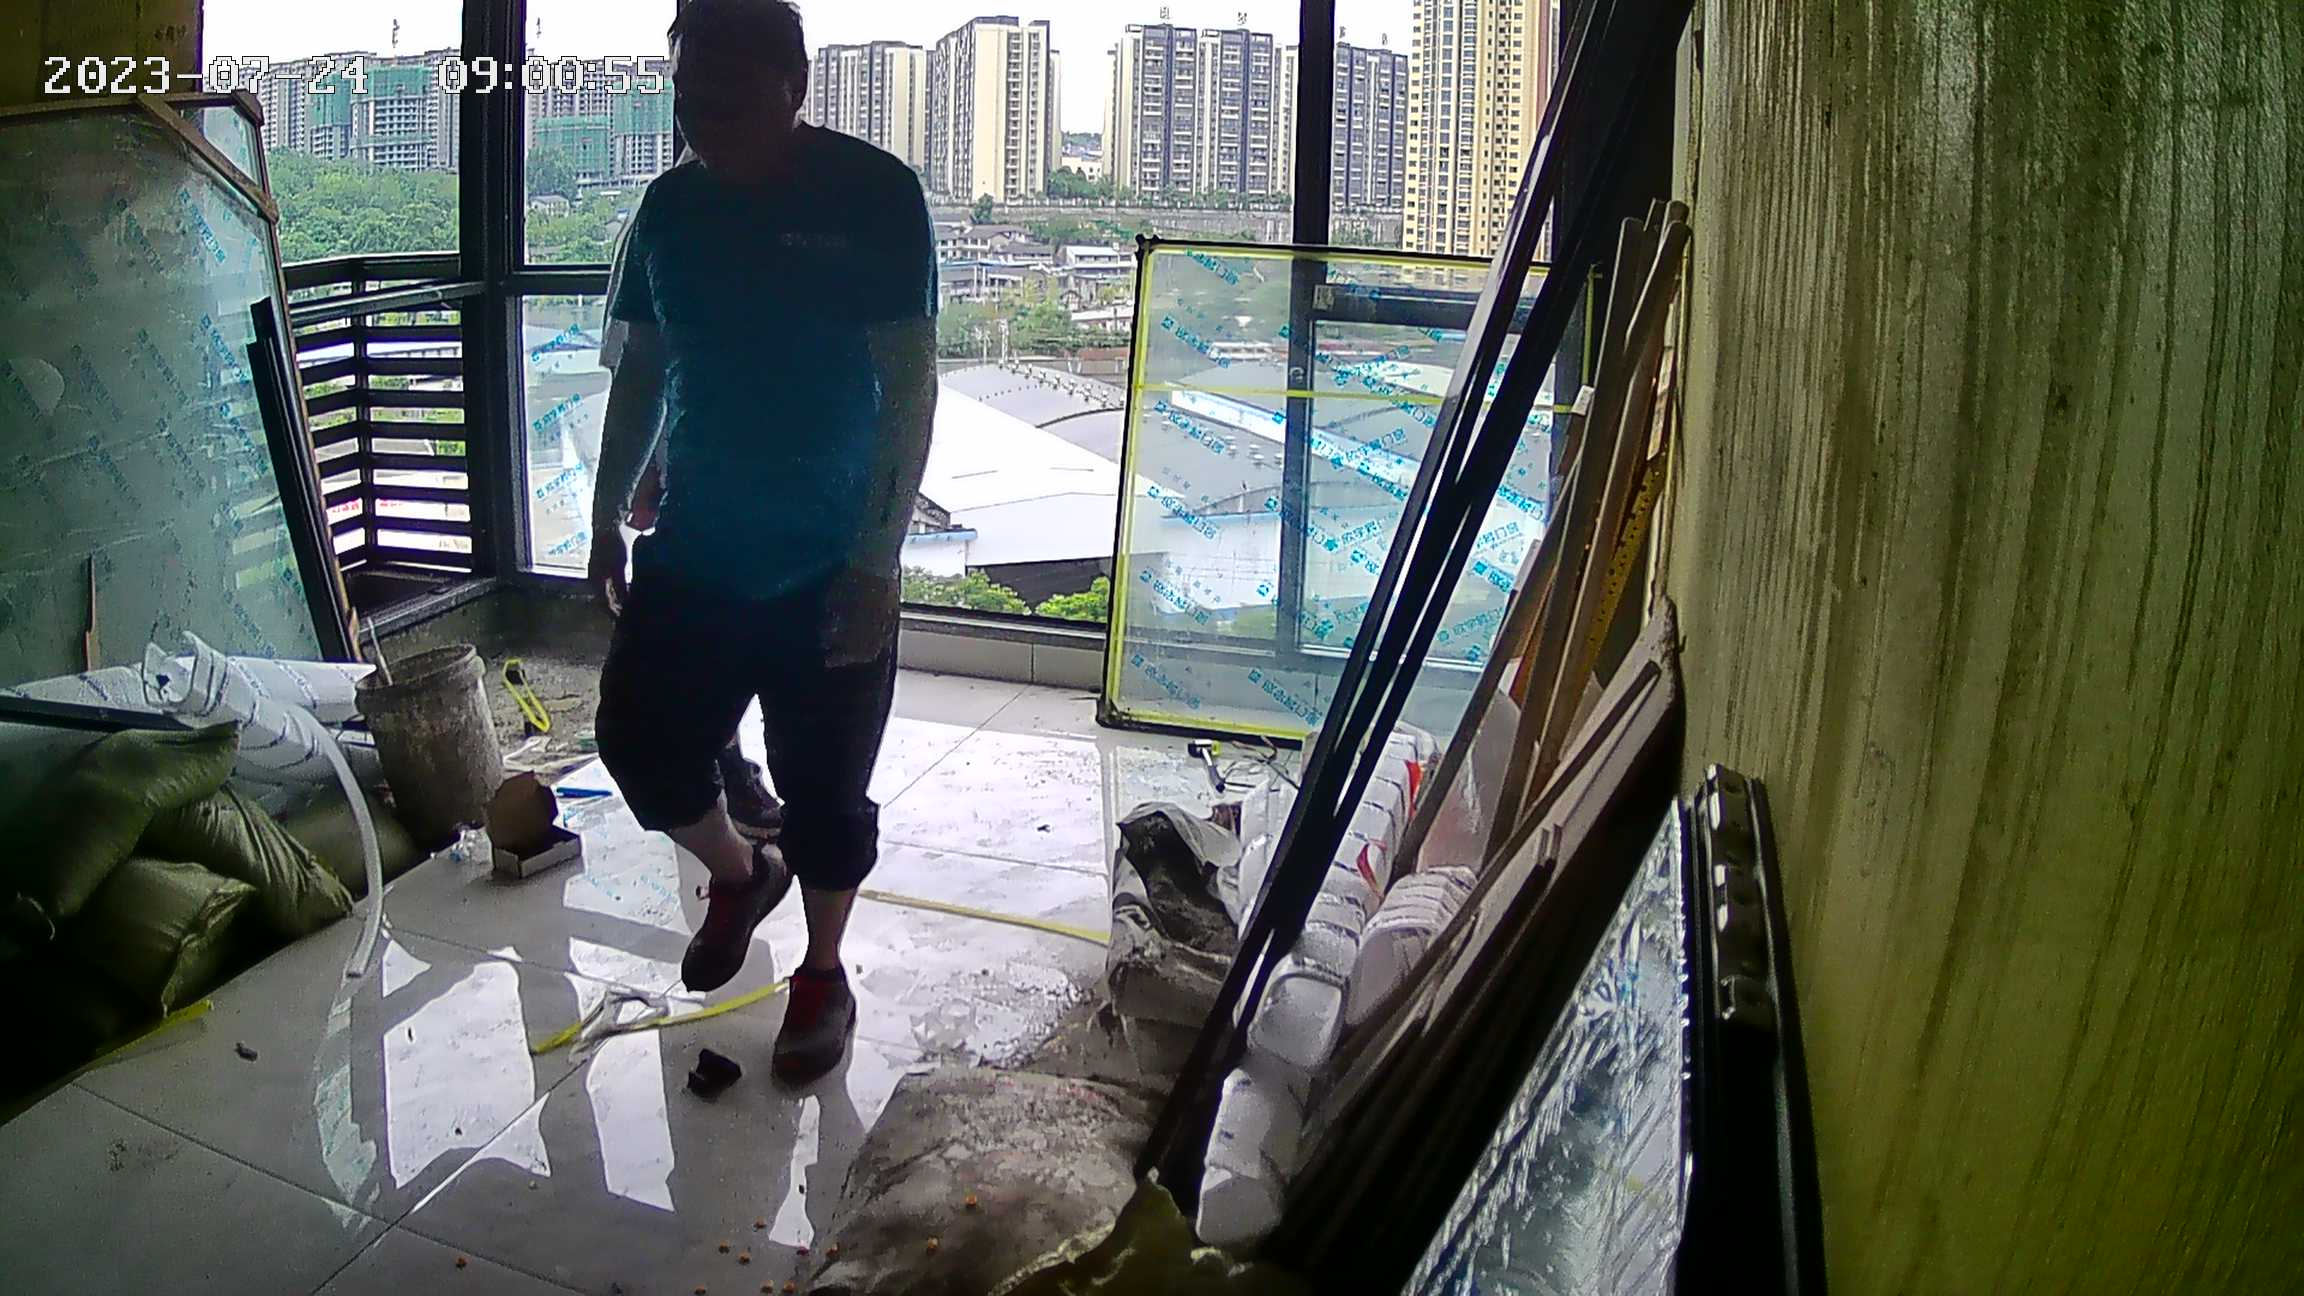people: (577, 3, 949, 1081)
window: (201, 1, 1569, 689)
